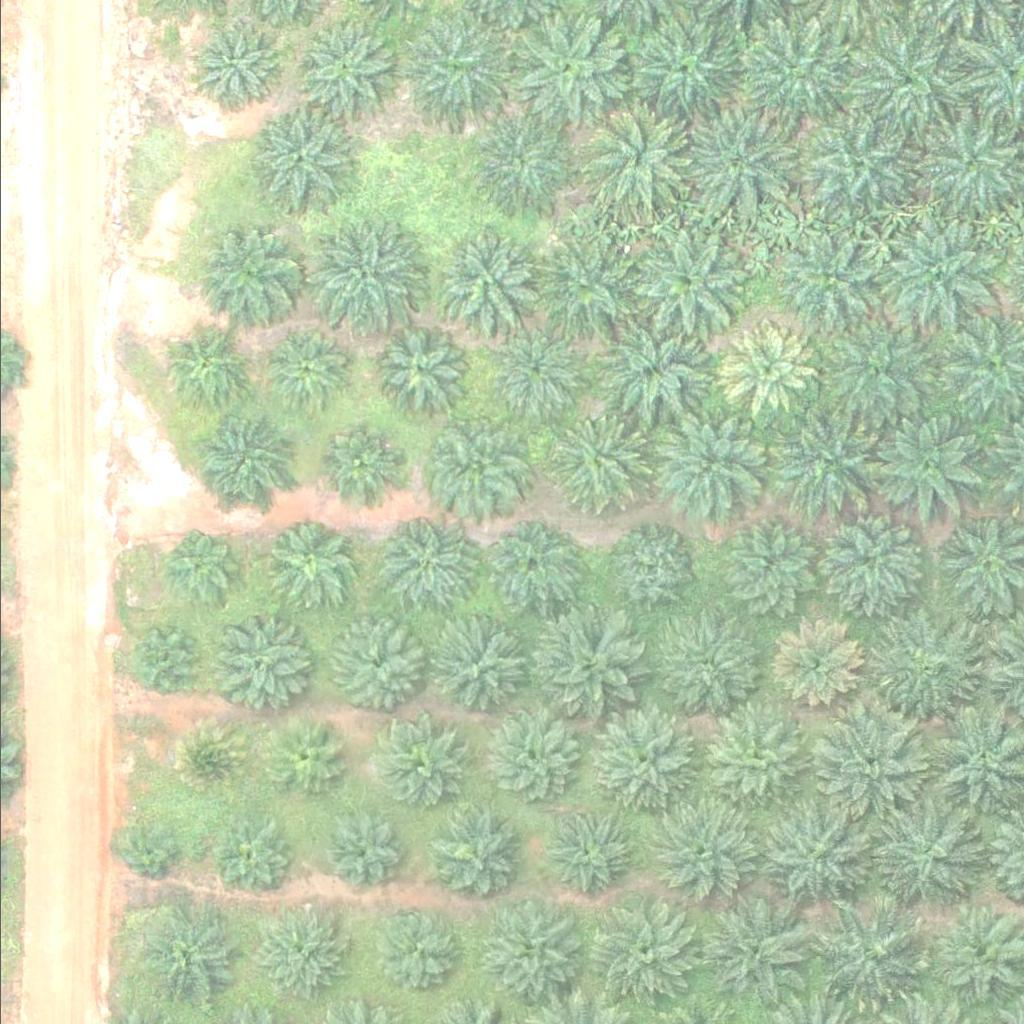Kelapa_Sawit: (813, 317, 927, 430), (868, 409, 982, 522), (645, 406, 759, 519), (851, 23, 964, 136), (811, 707, 924, 820), (758, 799, 871, 912), (737, 14, 850, 127), (623, 14, 736, 127), (508, 11, 621, 124), (391, 12, 504, 125), (306, 221, 419, 334), (771, 407, 884, 520), (880, 222, 994, 334), (630, 230, 744, 342), (596, 315, 710, 427), (866, 613, 979, 725), (872, 795, 985, 907), (812, 896, 925, 1008), (586, 893, 699, 1005), (699, 897, 812, 1009), (675, 106, 788, 218), (523, 615, 636, 727), (811, 109, 912, 209), (478, 904, 579, 1004), (656, 801, 757, 901), (705, 712, 806, 812), (581, 107, 682, 207), (467, 113, 568, 213), (530, 236, 631, 336), (427, 238, 528, 338), (719, 519, 820, 619), (659, 621, 760, 721), (191, 414, 292, 514), (205, 227, 306, 327), (248, 112, 349, 212), (291, 20, 392, 120), (820, 511, 920, 611), (140, 909, 240, 1009), (594, 711, 694, 811), (483, 709, 583, 809), (780, 225, 880, 325), (544, 413, 644, 513), (412, 417, 512, 517), (326, 619, 426, 719), (208, 615, 308, 715), (161, 324, 250, 412), (375, 722, 463, 810), (771, 619, 859, 707), (492, 322, 580, 410), (375, 324, 463, 412), (435, 625, 523, 713), (314, 426, 402, 514), (263, 327, 351, 415), (189, 25, 277, 113), (375, 907, 463, 994), (263, 909, 351, 996), (545, 806, 633, 893), (426, 812, 514, 899), (726, 326, 814, 413), (604, 527, 692, 614), (486, 528, 574, 615), (380, 519, 468, 606), (261, 525, 349, 612), (262, 722, 338, 797), (323, 812, 399, 887), (214, 819, 290, 894), (173, 723, 249, 798), (124, 621, 200, 696), (166, 531, 241, 606), (114, 821, 177, 883)
